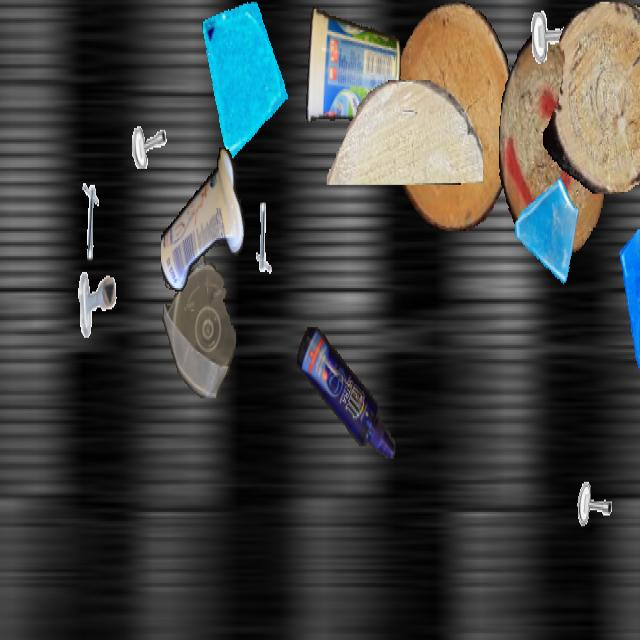glass: (201, 2, 293, 165), (513, 172, 581, 294), (617, 230, 640, 372)
metal: (525, 2, 585, 108), (69, 180, 123, 276), (571, 439, 623, 532), (120, 76, 172, 169), (233, 188, 283, 278), (76, 263, 118, 338)
plastic: (297, 327, 395, 459), (161, 144, 245, 297), (304, 2, 400, 126), (162, 240, 236, 396)
wood: (391, 2, 515, 229), (499, 36, 607, 252), (543, 2, 640, 194), (326, 80, 482, 183)
